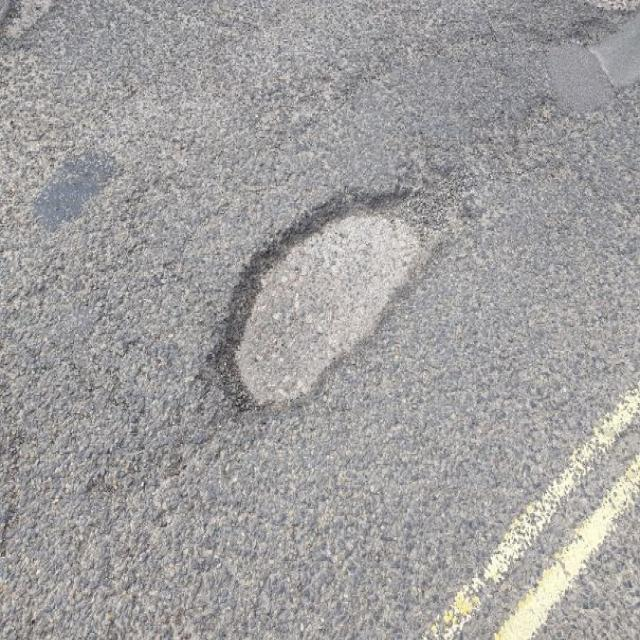Pothole: (202, 167, 488, 414)
